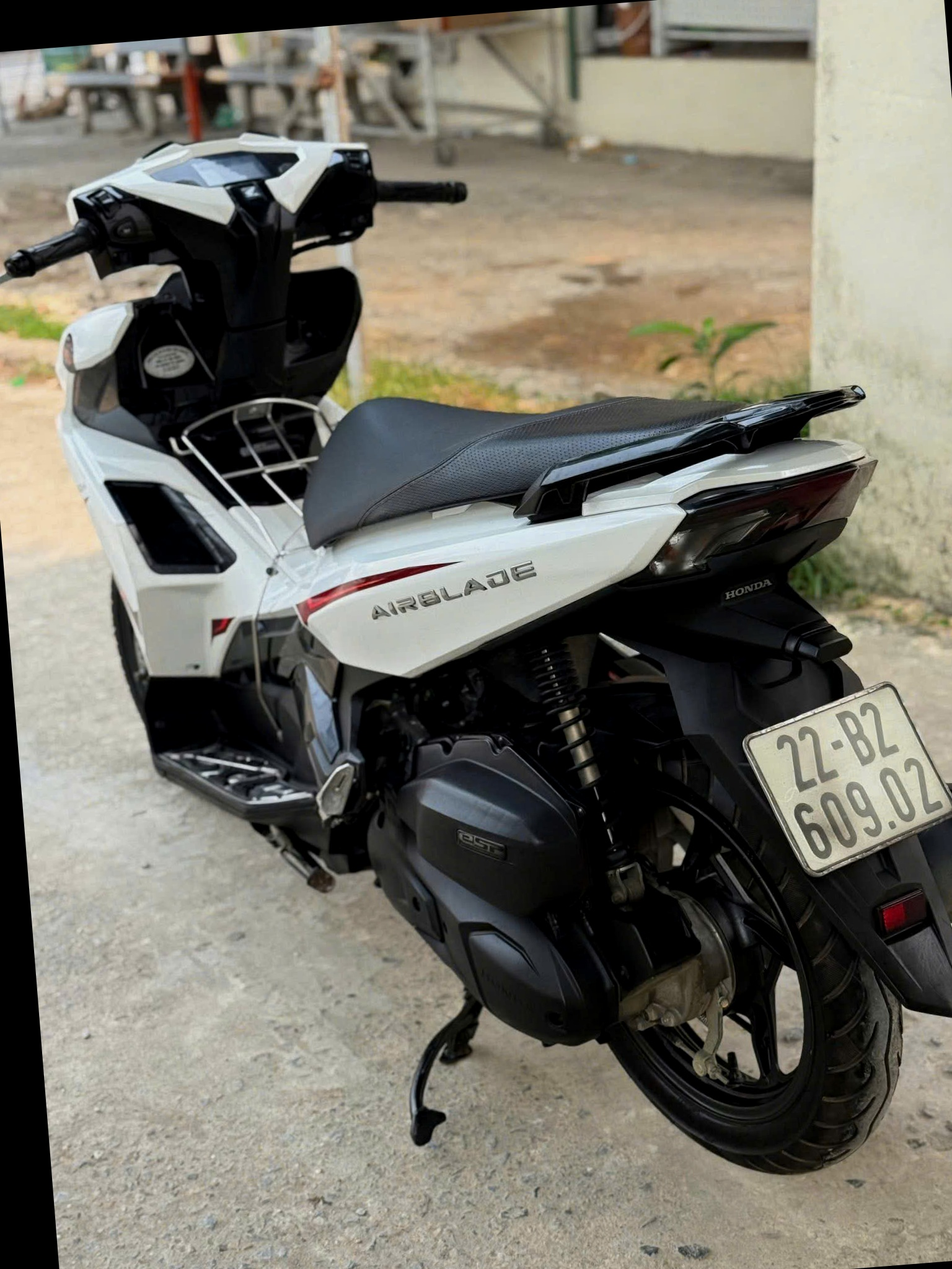Bien-so: (711, 690, 920, 899)
